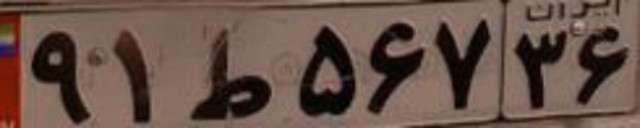1: (112, 30, 155, 122)
3: (514, 29, 565, 109)
5: (297, 23, 353, 117)
6: (369, 21, 424, 115), (576, 24, 630, 104)
7: (432, 18, 490, 110)
9: (30, 30, 96, 125)
taa: (186, 25, 272, 122)
